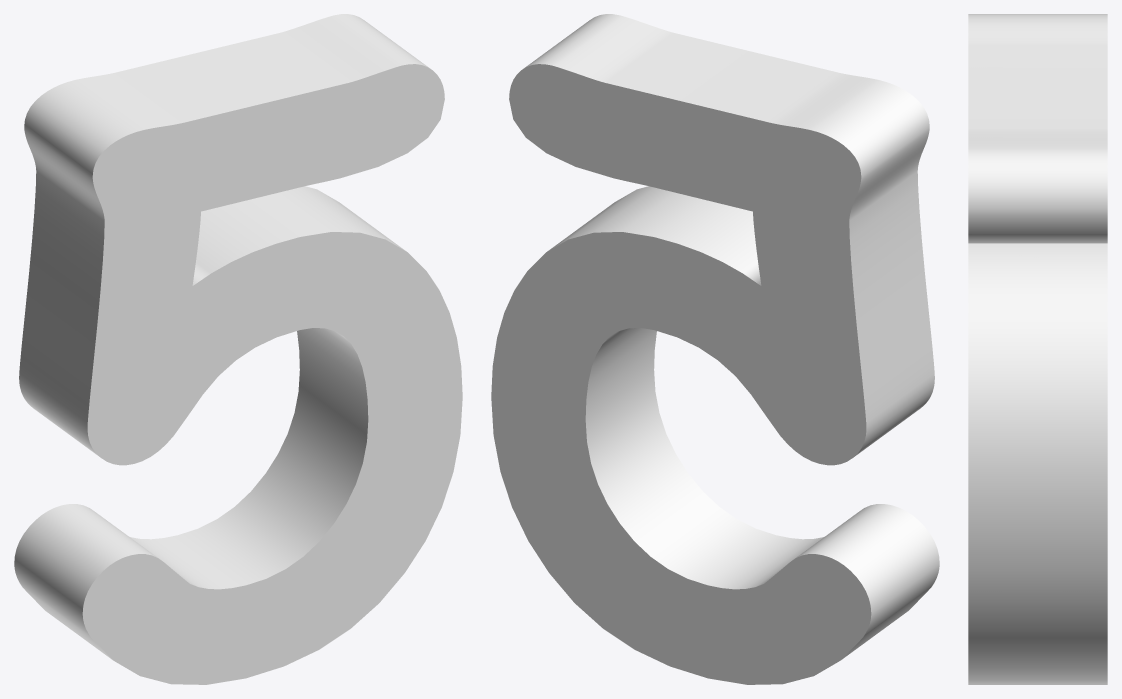
File: NumberFive.fbx
3 views of the same model, side by side, from view 1: azimuth 30°, elevation 25°; view 2: azimuth 150°, elevation 25°; view 3: azimuth 270°, elevation 25° (orthographic).
Visible parts, largest first — view 1: Text.006; view 2: Text.006; view 3: Text.006.
Boxes of the visible parts, x1,y1,x2,y2 form: Text.006: (14,14,462,684); Text.006: (491,14,939,684); Text.006: (968,14,1107,684).
Bounding box in the file's own units: 38.46 × 55.59 × 12.
